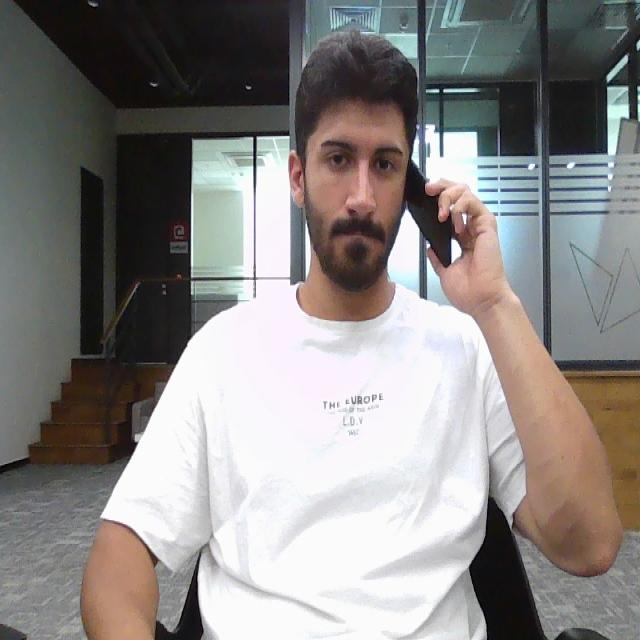phone: (402, 160, 463, 260)
